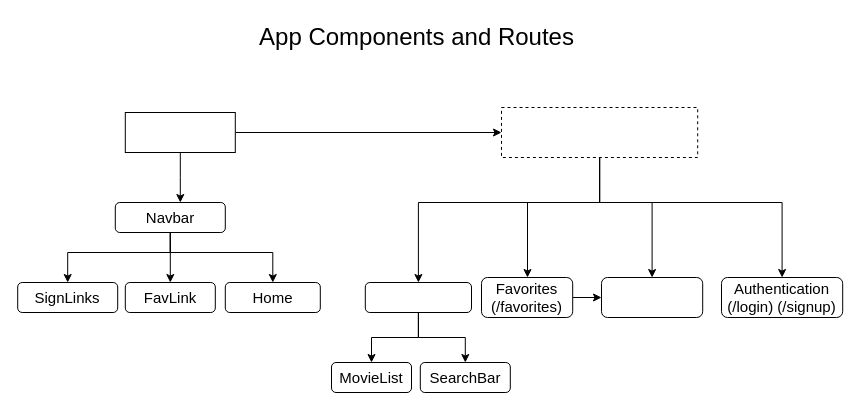
The diagram is 860 pixels wide and 410 high, and some of its shapes have lost their labels. Here are the shapes that lost their labels. From the top down, the box of each, then its label:
(124, 112, 235, 152): App(root)
(500, 106, 698, 158): Routes
(364, 282, 472, 312): Search (/)
(600, 276, 703, 318): MovieDetails (/movie/:id)
